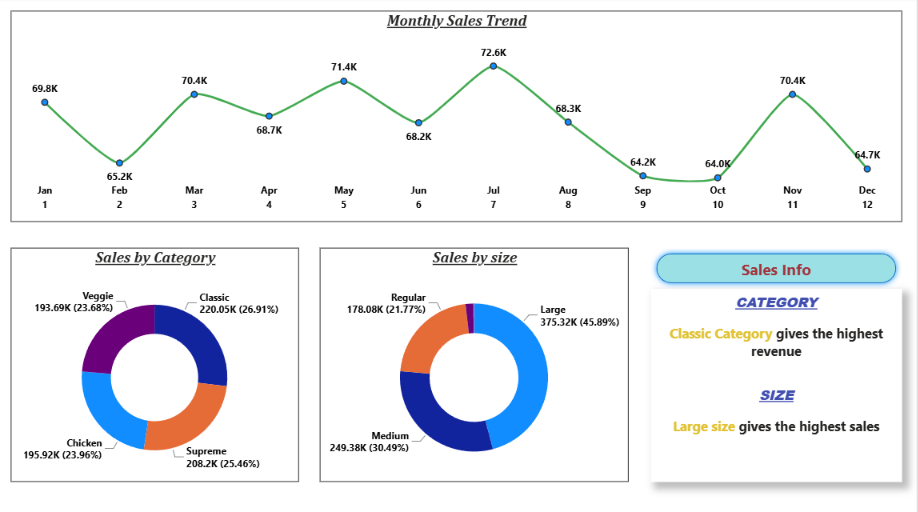

What the dashboard file says about the page in this screenshot:
{"tool":"powerbi","page":{"name":"Sales ","canvas":[1280,720],"ordinal":1},"visuals":[{"type":"donutChart","title":"Sales by size","fields":{"Y":["Measures Table.Total Revenue"],"Category":["pizza_sales pizza_sales_raw.pizza_Regularize"]},"box":[449.4,349.2,429.9,325.6],"z":0},{"type":"donutChart","title":"Sales by Category","fields":{"Category":["pizza_sales pizza_sales_raw.pizza_category"],"Y":["Measures Table.Total Revenue"]},"box":[19.5,349.2,400.7,325.6],"z":1000},{"type":"lineChart","title":"Monthly Sales Trend","fields":{"Category":["pizza_sales pizza_sales_raw.month_num","pizza_sales pizza_sales_raw.month"],"Y":["Measures Table.Total Revenue"]},"box":[19.5,19.5,1239.7,293.6],"z":2000},{"type":"shape","box":[909.9,349.2,349.2,57],"z":5001},{"type":"textbox","box":[909.9,406.3,349.2,268.5],"z":5003}]}

Visuals, with their boxes in screenshot pixels (x1, y1, x2, y2), scaled from the page's 1280x720 canvas onto the 918x512 screenshot:
"Sales by size" donutChart: (322, 248, 631, 480)
"Sales by Category" donutChart: (14, 248, 301, 480)
"Monthly Sales Trend" lineChart: (14, 14, 903, 223)
shape: (653, 248, 903, 289)
textbox: (653, 289, 903, 480)
